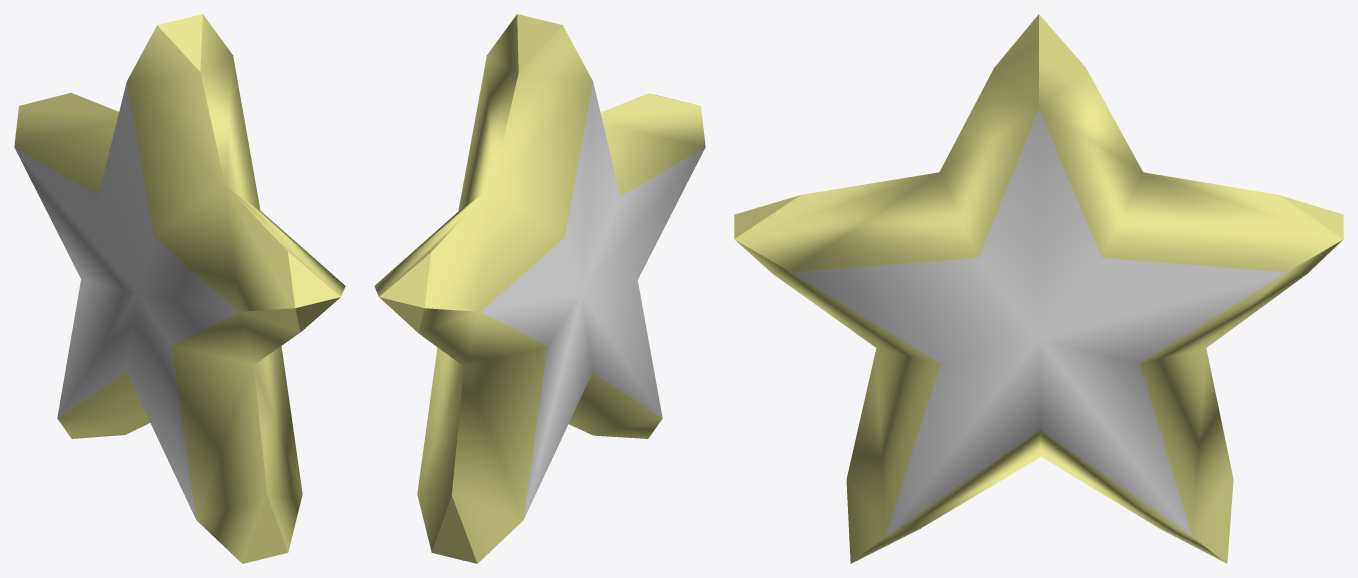
File: item_ystar.fbx
3 renders of one model, left to right at view 1: azimuth 30°, elevation 25°; view 2: azimuth 150°, elevation 25°; view 3: azimuth 270°, elevation 25°, orthographic. The views are drawn at different scales.
Parts seen in each view (by area): view 1: pSphere2; view 2: pSphere2; view 3: pSphere2.
Boxes of the visible parts, x1,y1,x2,y2 form: pSphere2: [14, 14, 345, 563]; pSphere2: [374, 14, 705, 563]; pSphere2: [734, 14, 1343, 563].
Size of the model in its own units: 0.187 by 0.8005 by 0.8417.
